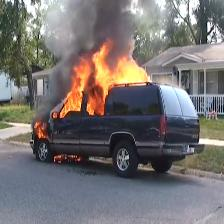fire: (72, 61, 147, 87), (69, 91, 103, 115)
smoke: (57, 2, 135, 44)
